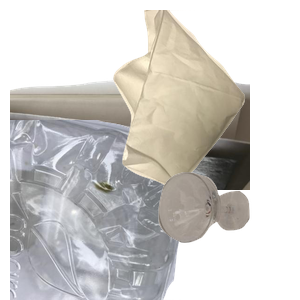glass: (156, 170, 300, 300)
paper: (10, 77, 250, 257)
plastic: (10, 120, 197, 300)
trash: (111, 10, 300, 190)
